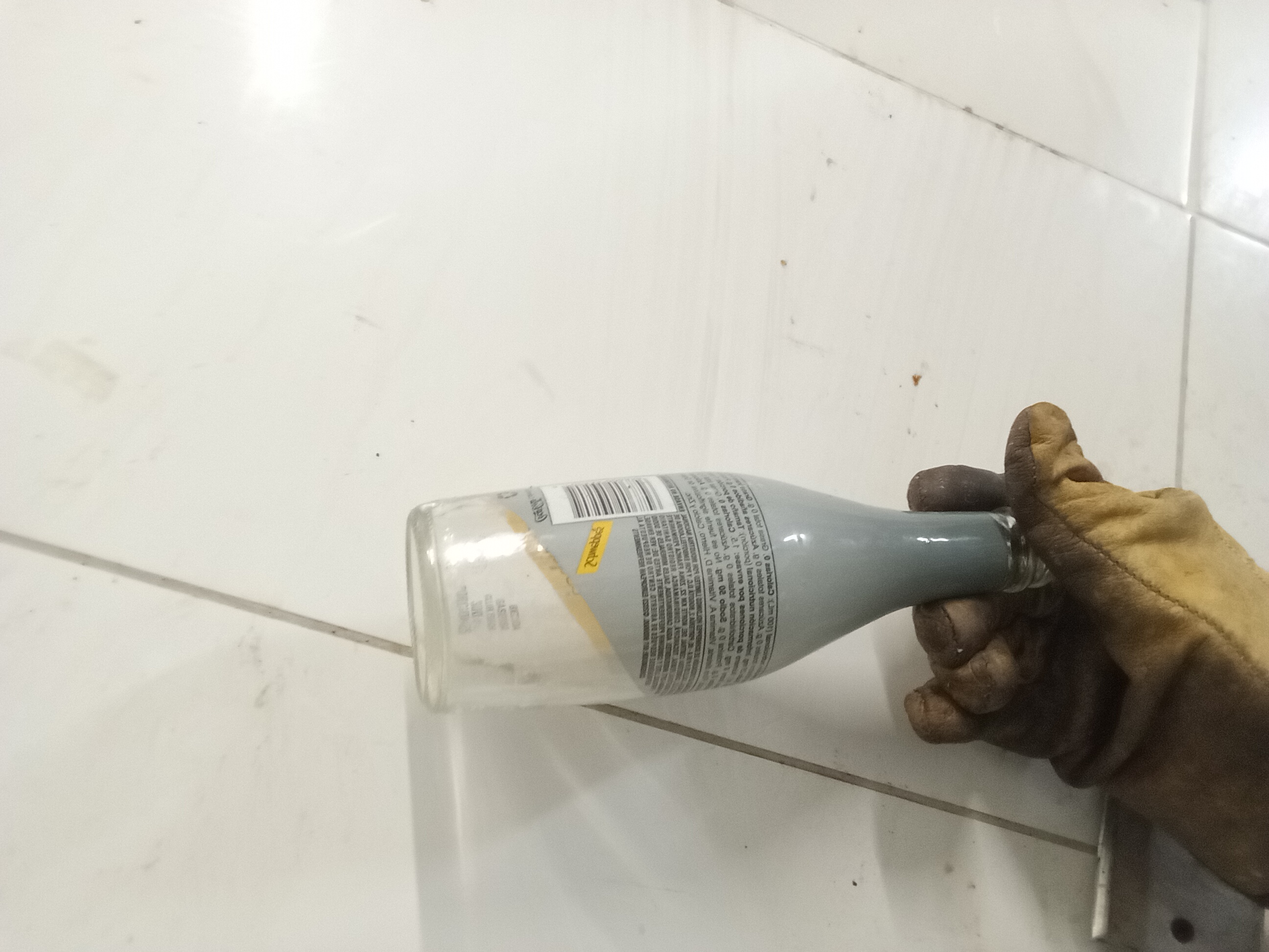Vidrio: (406, 470, 1055, 713)
